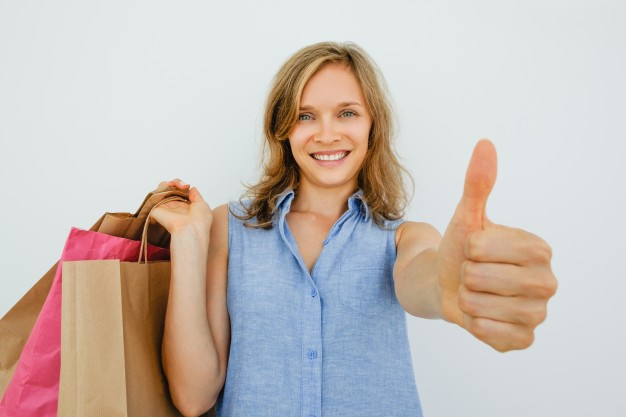thumbsup: (453, 137, 559, 353)
